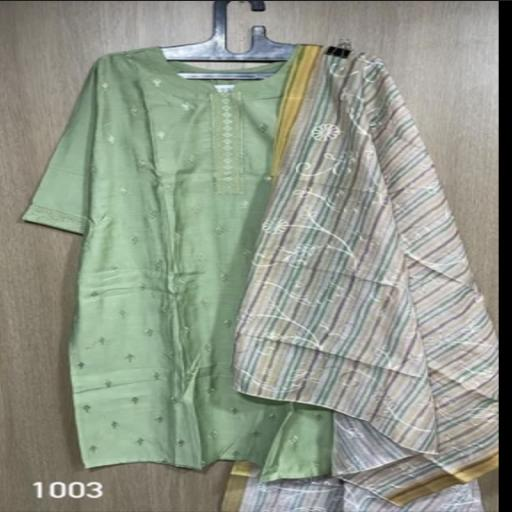Dupatta: (230, 47, 498, 512)
Kameez: (18, 43, 394, 481)
